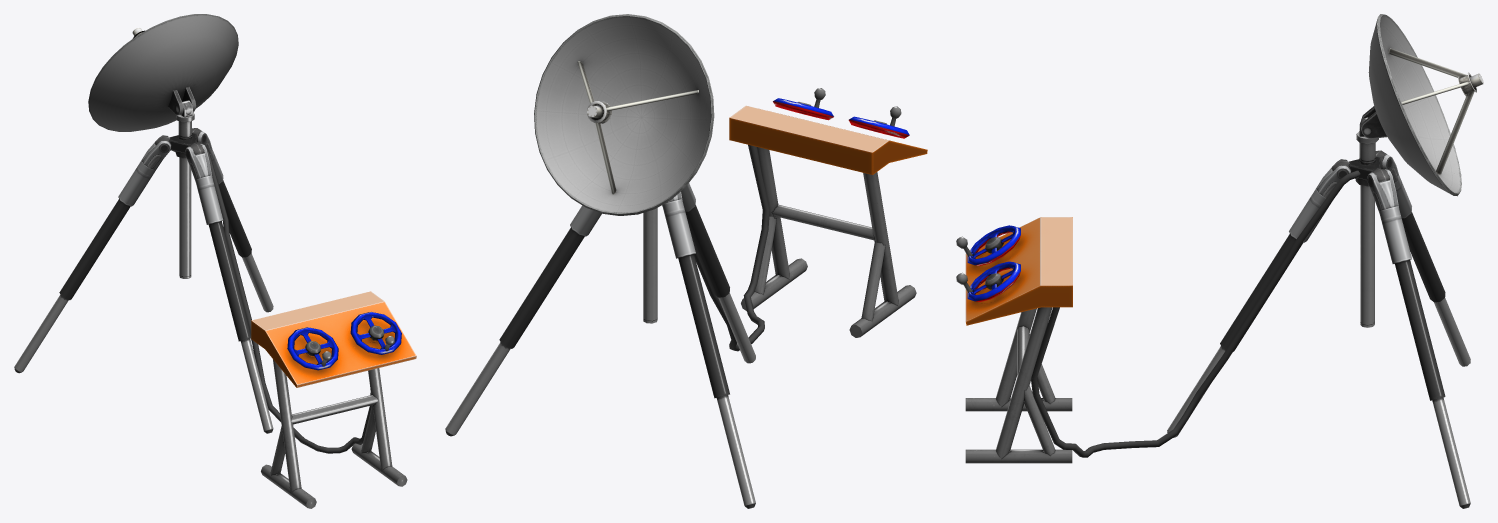
The model's file is satellite_dish.dae.
3 views of the same model, side by side, from view 1: azimuth 30°, elevation 25°; view 2: azimuth 150°, elevation 25°; view 3: azimuth 270°, elevation 25° (orthographic). The views are drawn at different scales.
Visible parts, largest first — view 1: Base, Dish, Wheel_01, Wheel_02; view 2: Base, Dish, Wheel_02, Wheel_01; view 3: Base, Dish, Wheel_02, Wheel_01.
Part boxes in pixels (x1,y1,x2,y2): Base: (14,111,416,508); Dish: (88,14,238,131); Wheel_01: (287,327,338,370); Wheel_02: (350,312,401,354); Base: (445,105,927,508); Dish: (534,14,714,215); Wheel_02: (773,88,833,120); Wheel_01: (848,106,909,138); Base: (965,131,1470,508); Dish: (1361,14,1483,196); Wheel_02: (956,261,1020,301); Wheel_01: (956,225,1020,265).
Size of the model in its own units: 1619 by 2448 by 2119.
